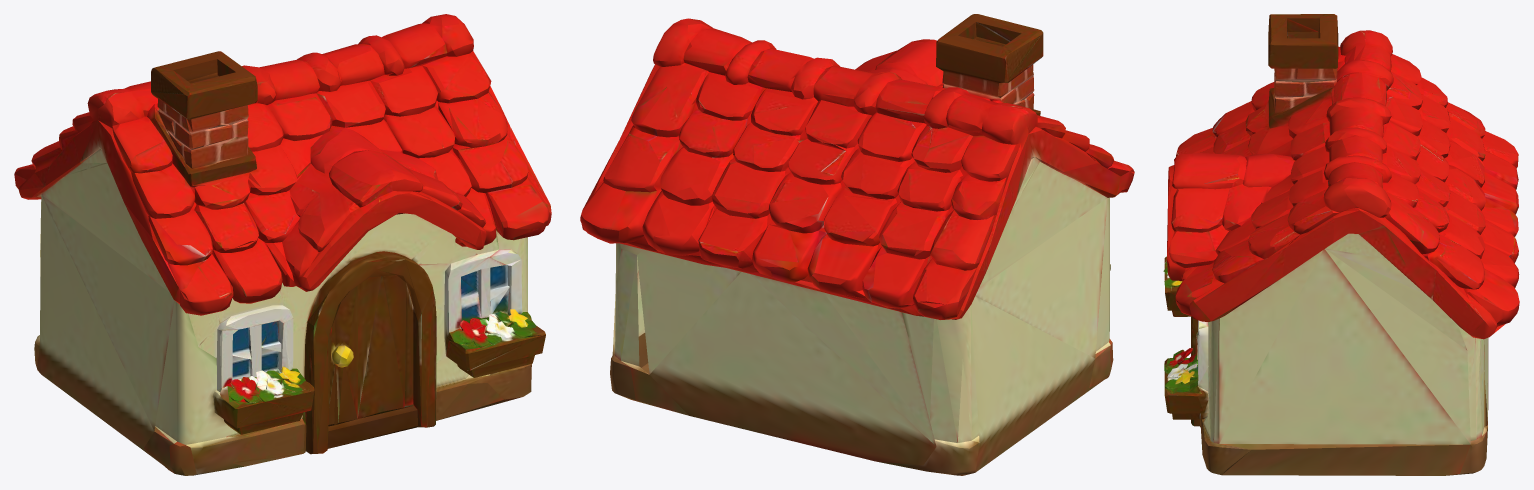
File: skate-hus.glb
The picture shows the model from 3 angles, left to right: view 1: azimuth 30°, elevation 25°; view 2: azimuth 150°, elevation 25°; view 3: azimuth 270°, elevation 25°; orthographic projection. The views are drawn at different scales.
Bounding box in the file's own units: 1.9 × 1.67 × 1.67.
1 material, 1 textured.
